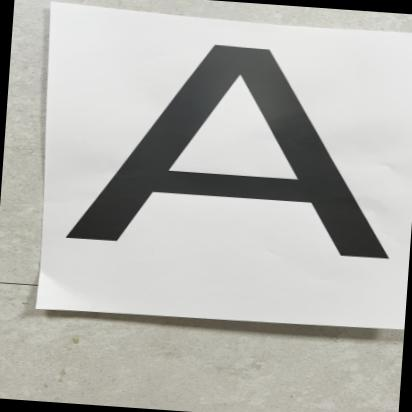seat: (37, 17, 412, 300)
